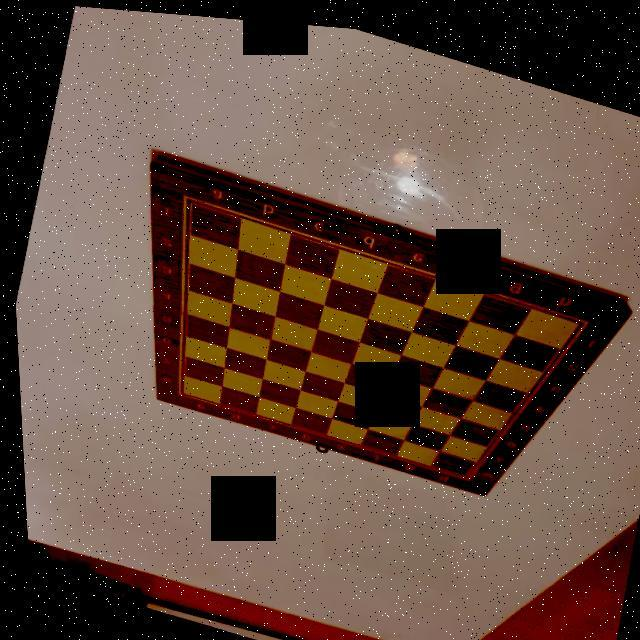chess-table-corners: (452, 464, 471, 480), (165, 384, 183, 399), (174, 188, 192, 202), (573, 308, 590, 322)
